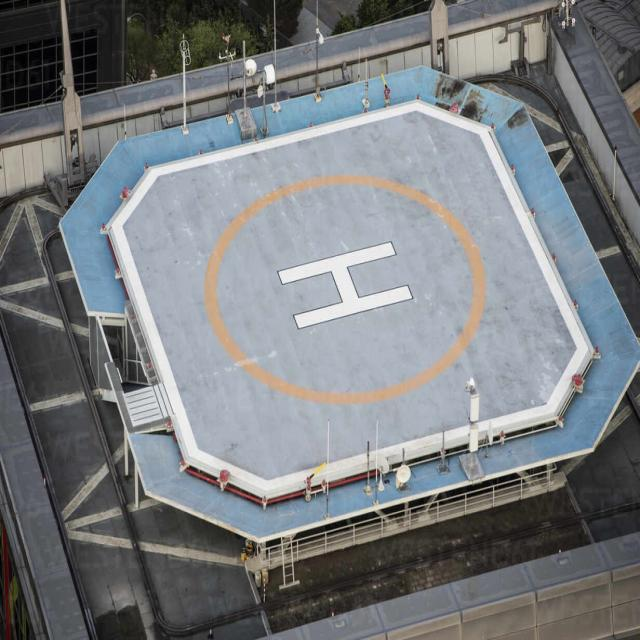helipad: (196, 167, 490, 412)
